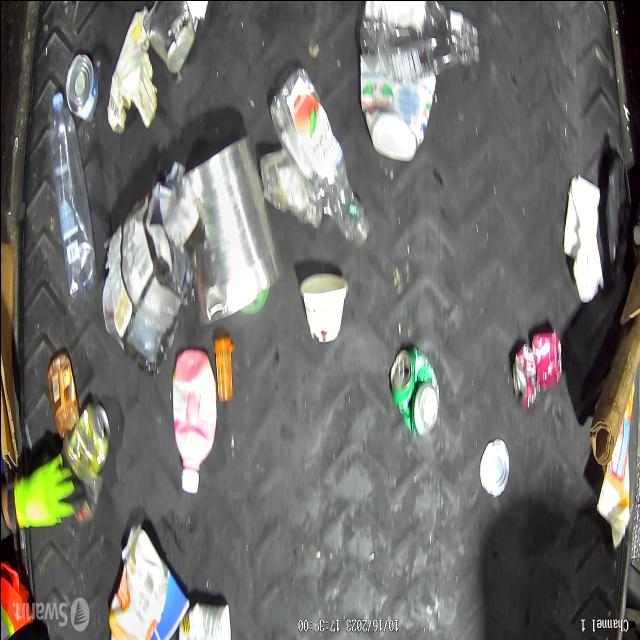can: (388, 350, 434, 434), (145, 1, 199, 68), (513, 335, 562, 407), (64, 410, 112, 479), (46, 357, 76, 432), (64, 54, 94, 120)
plastic_bottle: (271, 71, 371, 249), (360, 3, 480, 84), (48, 86, 90, 293)
